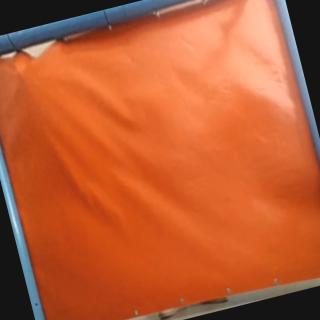Hit-hRxx: (9, 64, 25, 78)
